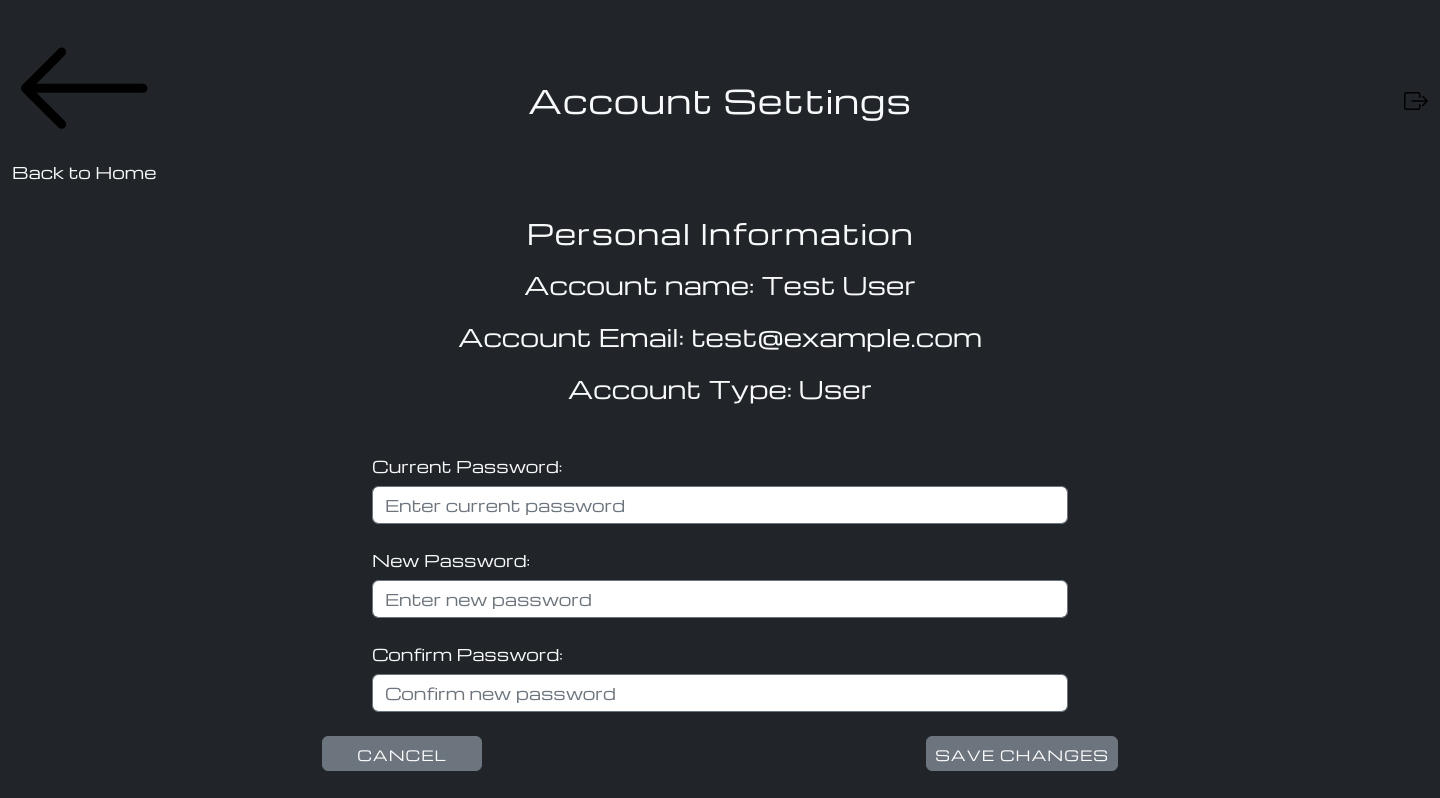
Test: AccountSettings Component › successfully changes password
Note: Fill out form with valid data
In the password field labelled "Current Password:": (720, 505) [372,486,1068,524], type "password123"
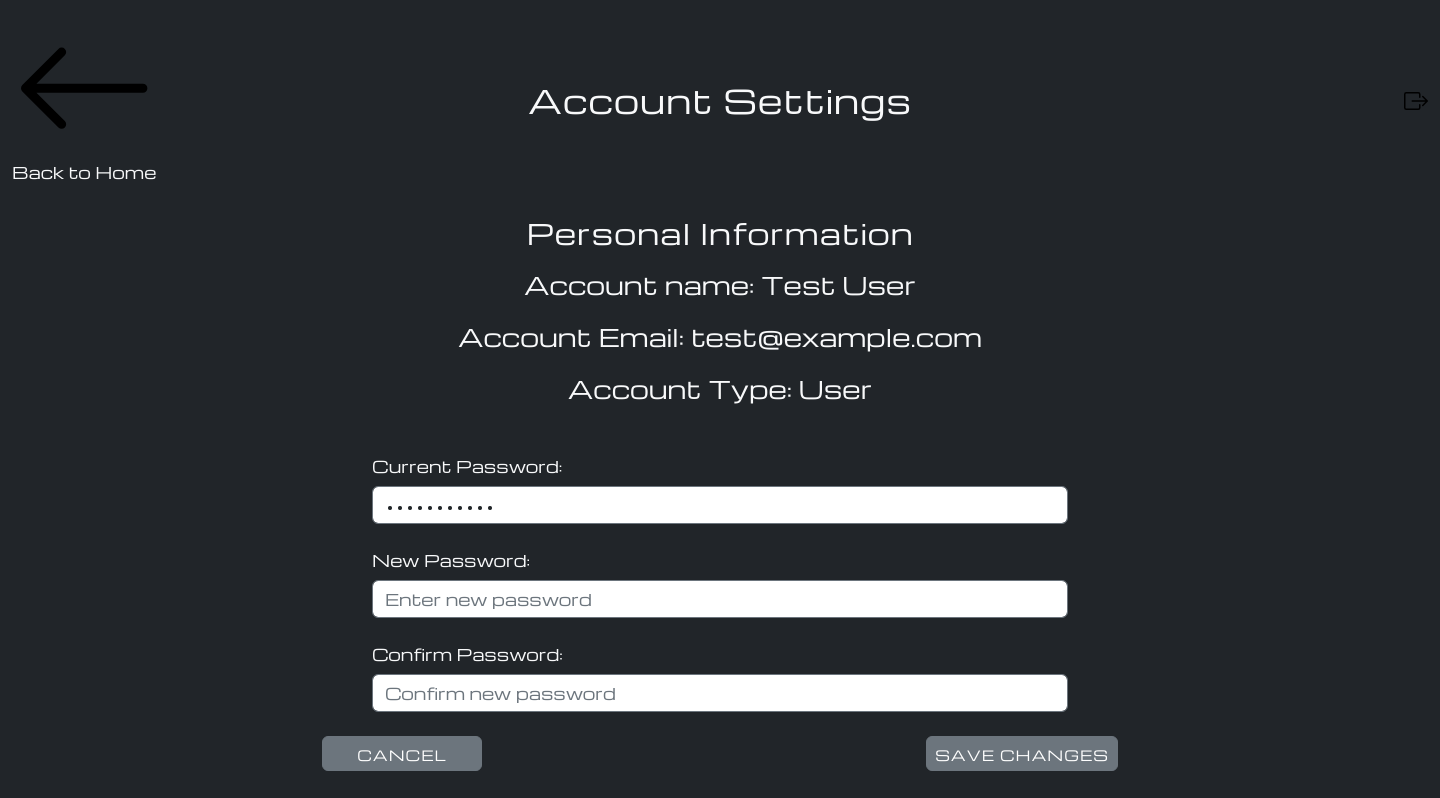
In the password field labelled "New Password:": (720, 599) [372,580,1068,618], type "newpassword123"
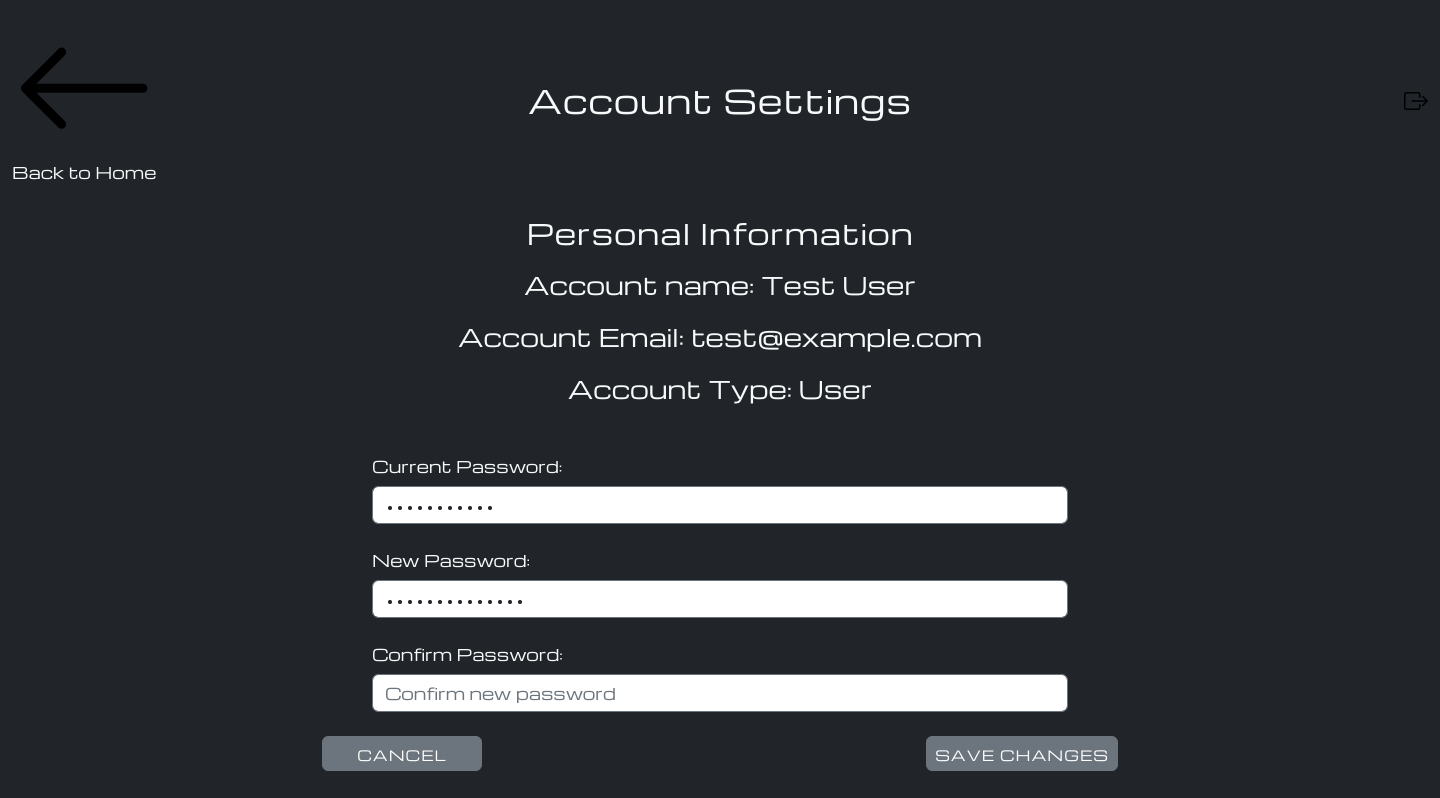
In the password field labelled "Confirm Password:": (720, 693) [372,674,1068,712], type "newpassword123"
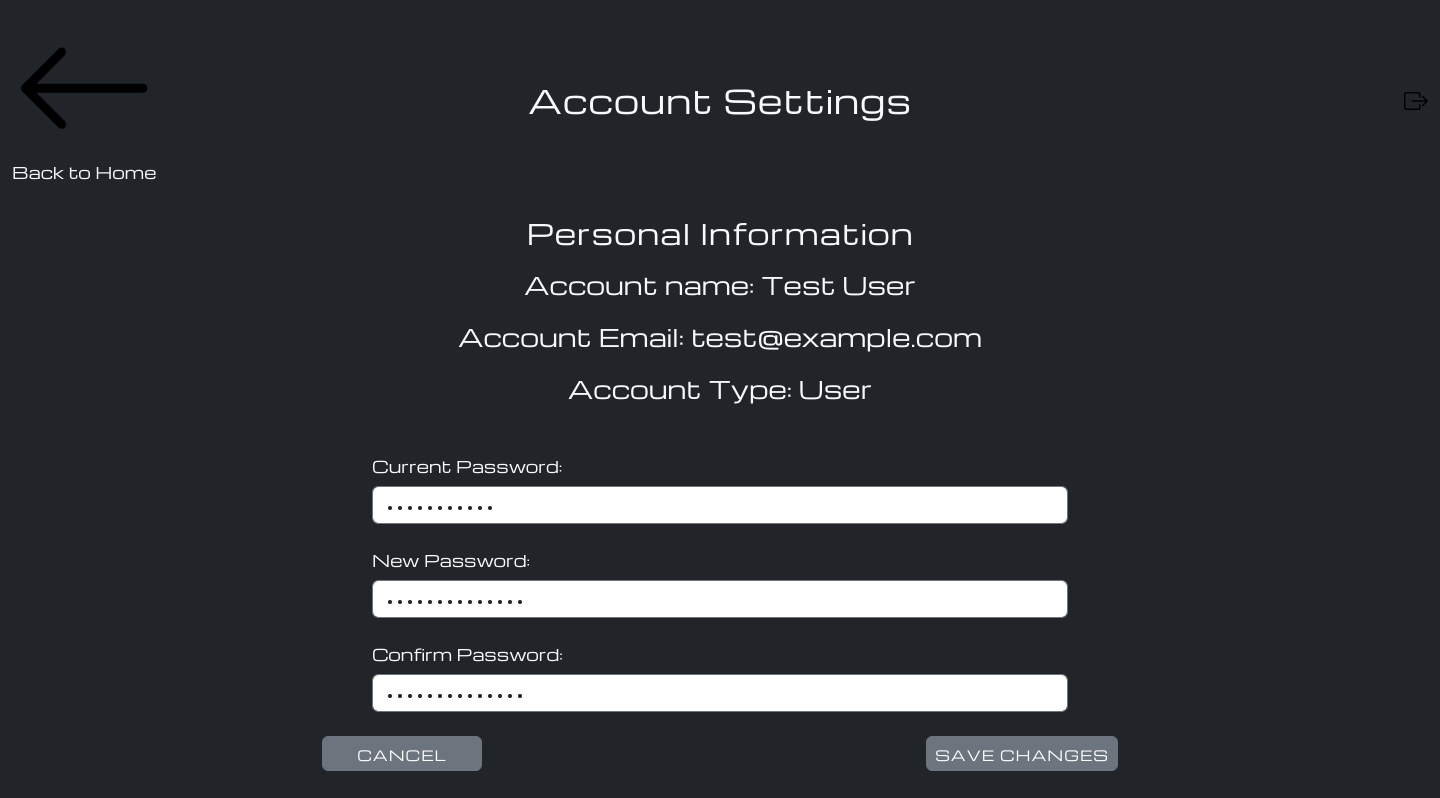
Click the button "Save Changes": (1022, 754) [926,736,1118,771]
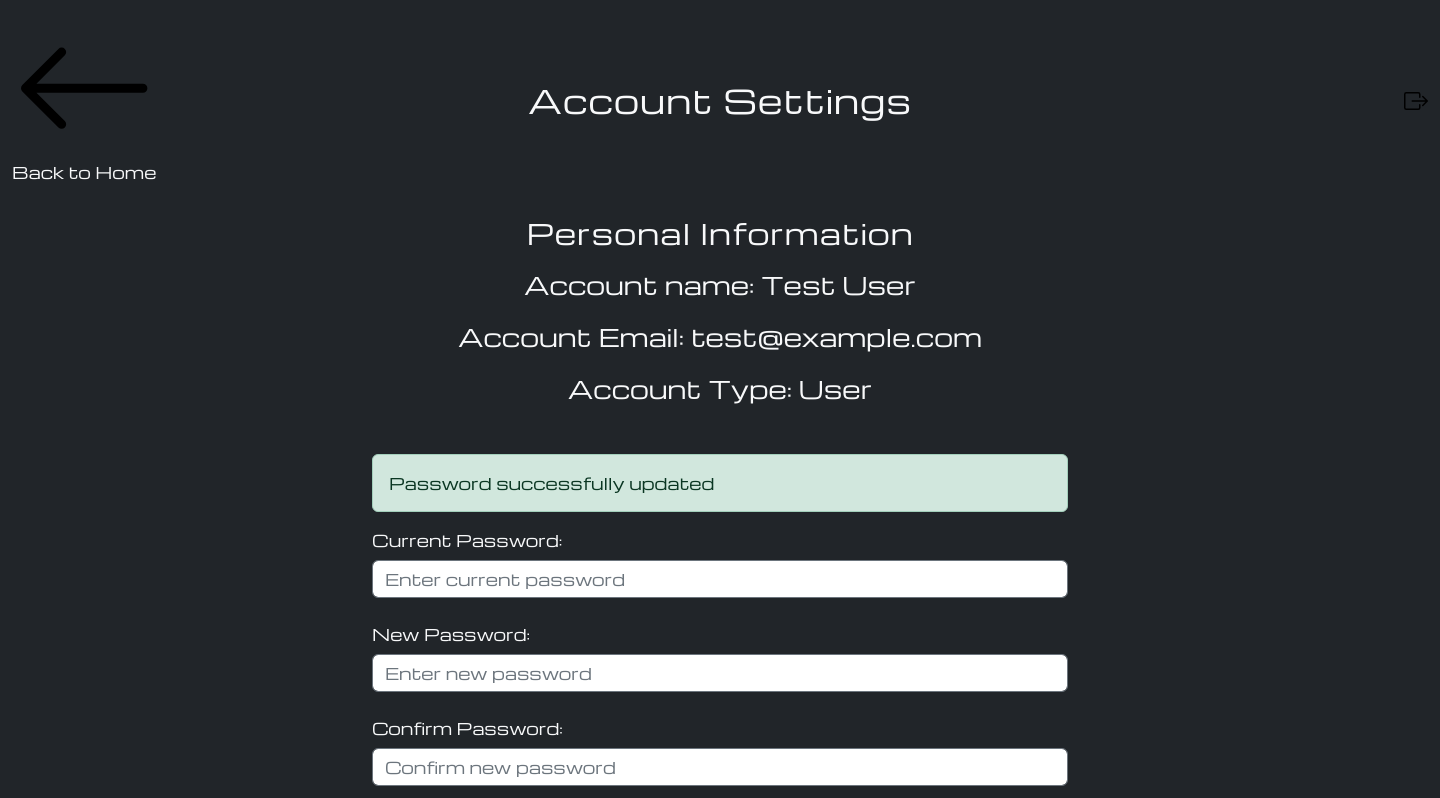
Expected: the text "Password successfully updated" is shown, [372,454,1068,512]
Expected: the password field labelled "Current Password:" is empty, [372,560,1068,598]
Expected: the password field labelled "New Password:" is empty, [372,654,1068,692]
